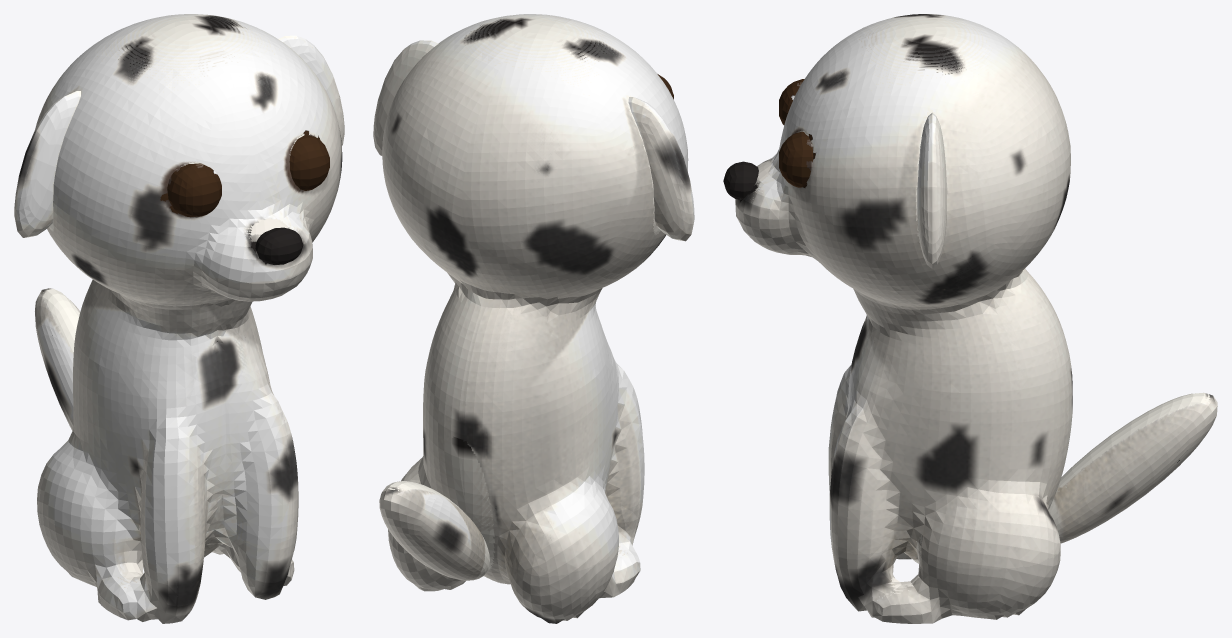
File: figure.glb
The picture shows the model from 3 angles, left to right: view 1: azimuth 30°, elevation 25°; view 2: azimuth 150°, elevation 25°; view 3: azimuth 270°, elevation 25°; orthographic projection.
Parts seen in each view (by area): view 1: figure; view 2: figure; view 3: figure.
Boxes of the visible parts, x1,y1,x2,y2 form: figure: (14, 14, 344, 623); figure: (373, 14, 694, 623); figure: (723, 14, 1217, 623).
Bounding box in the file's own units: 51.73 × 84.24 × 68.25.
1 material, 1 textured.
